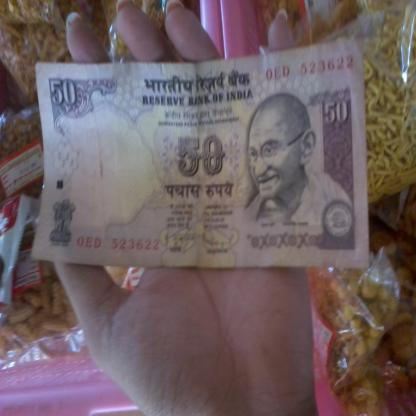Old50Front: (30, 37, 370, 268)
